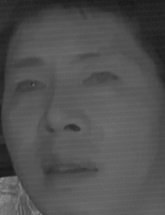eye: (82, 65, 121, 92), (12, 74, 47, 97)
mouth: (39, 151, 99, 188)
